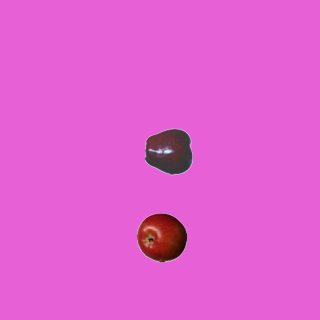Apple Braeburn: (136, 212, 186, 262)
Apple Red Delicious: (144, 126, 194, 176)
